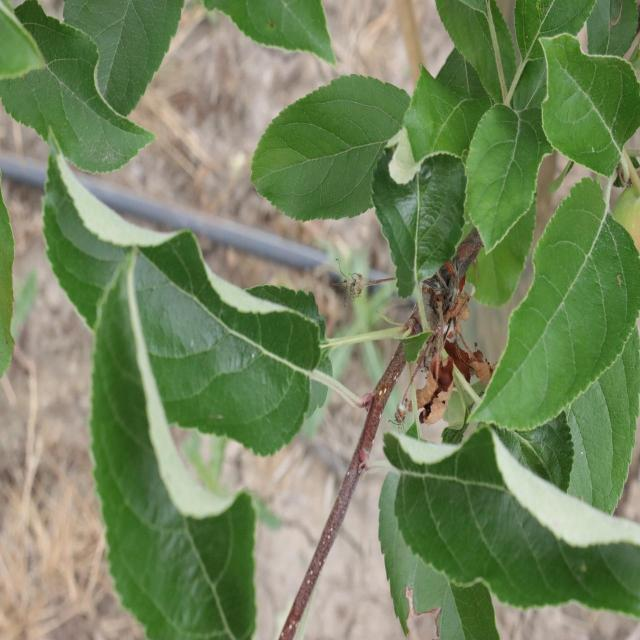-FireBlight-: (422, 336, 456, 425)
